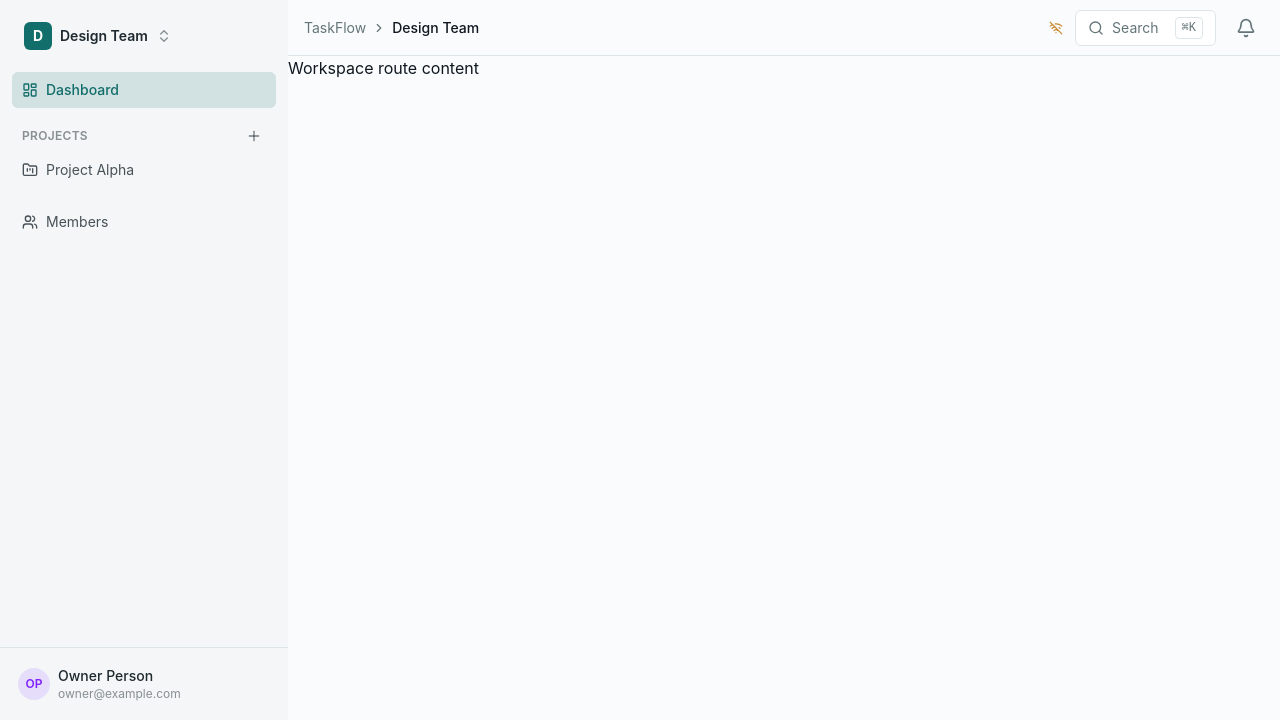
Test case: AppLayout shell › switches workspace from the workspace menu
The width and height of the screenshot is (1280, 720).
Click the button "D Design Team".
click(98, 36)  # box x1=16 y1=16 x2=180 y2=56
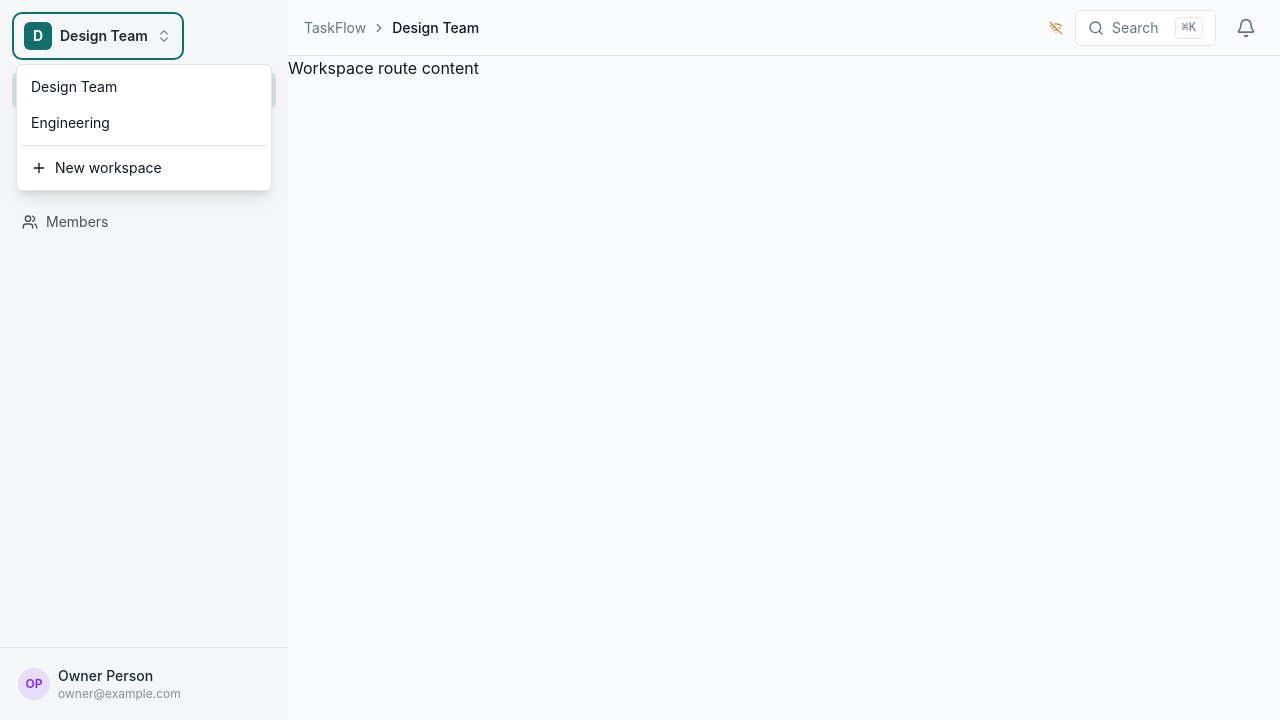
Click the menu item "Engineering".
click(144, 123)  # box x1=21 y1=105 x2=267 y2=141
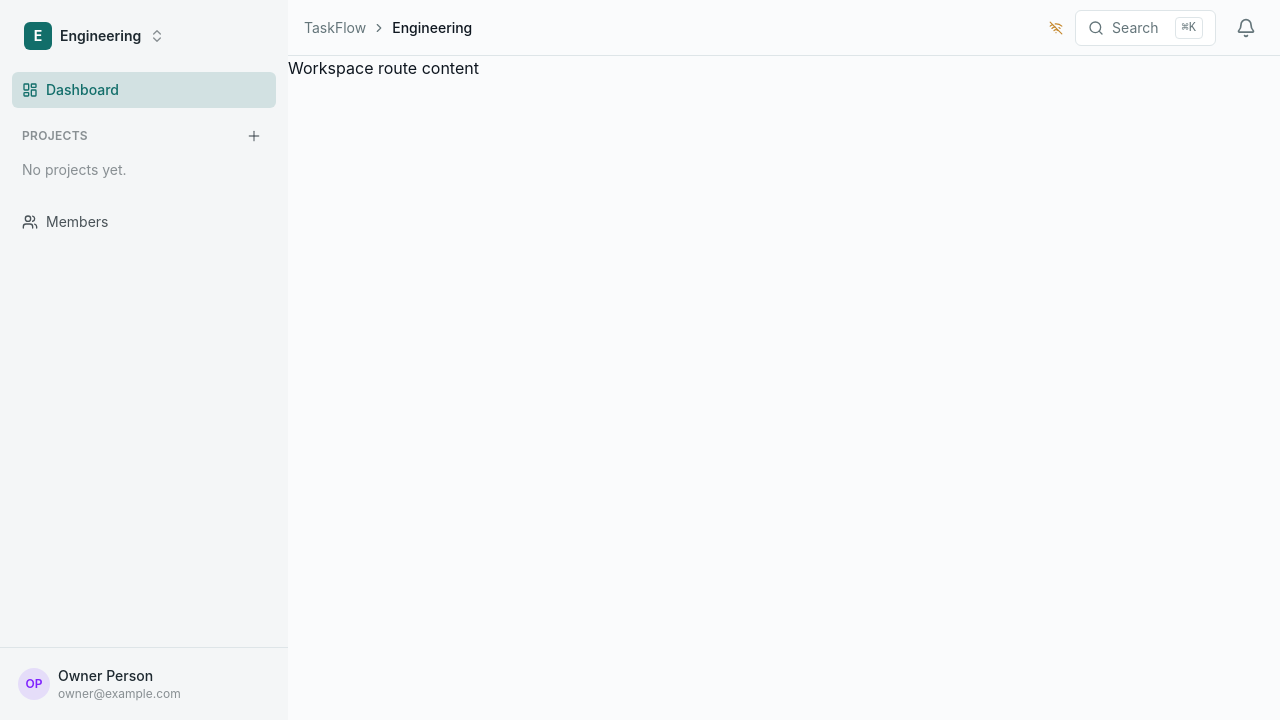
Expected: the button "E Engineering" is shown, x1=16 y1=16 x2=173 y2=56
